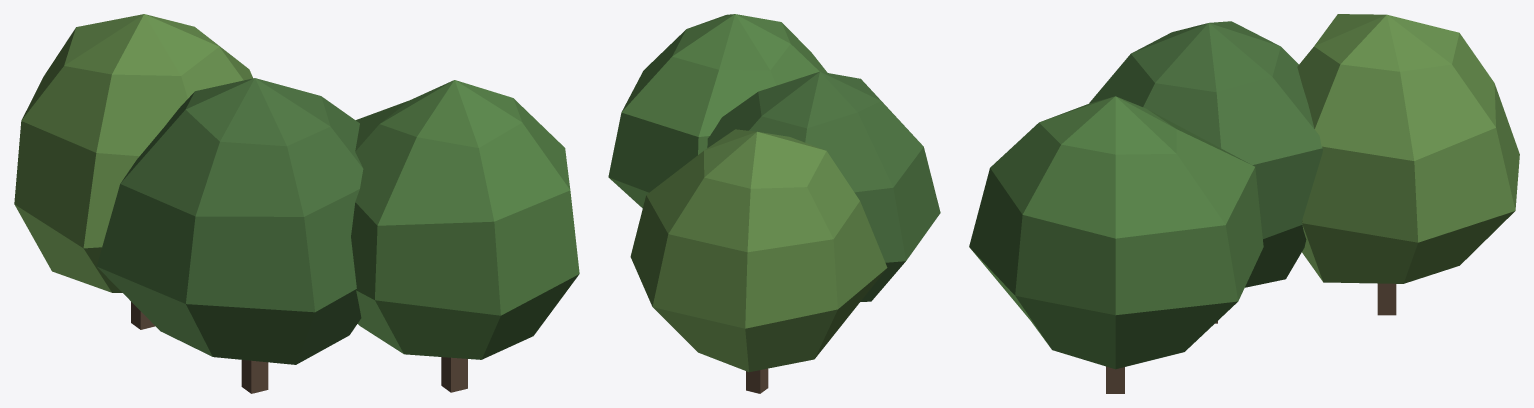
Rendered from copa_2.glb.
3 views of the same model, side by side, from view 1: azimuth 30°, elevation 25°; view 2: azimuth 150°, elevation 25°; view 3: azimuth 270°, elevation 25° (orthographic). The views are drawn at different scales.
Parts seen in each view (by area): view 1: b, a, c, tr; view 2: c, a, b, tr; view 3: a, c, b, tr.
Part boxes in pixels (x1,y1,x2,y2): b: [96, 78, 363, 364]; a: [351, 80, 579, 359]; c: [14, 14, 252, 292]; tr: [131, 302, 467, 393]; c: [630, 129, 887, 372]; a: [608, 14, 827, 208]; b: [707, 71, 940, 301]; tr: [746, 368, 768, 393]; a: [969, 96, 1263, 369]; c: [1297, 14, 1519, 283]; b: [1089, 21, 1322, 287]; tr: [1106, 283, 1396, 393].
Bounding box in the file's own units: 11.73 × 8.72 × 14.66.
